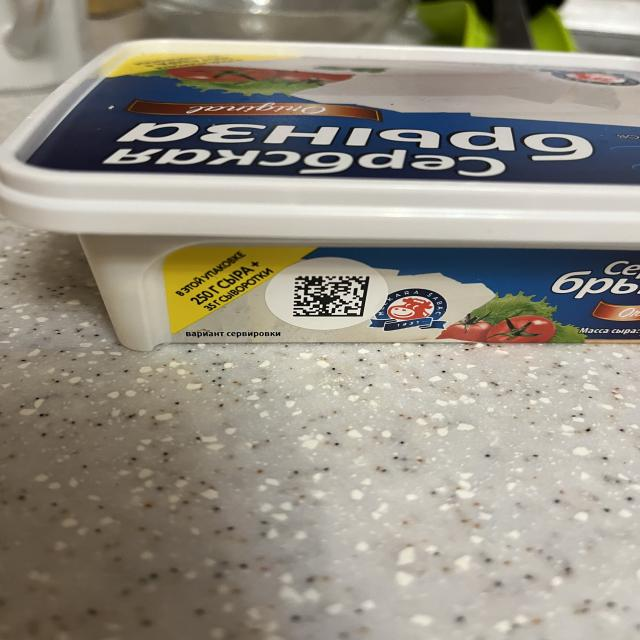datamatrix: (294, 277, 371, 318)
